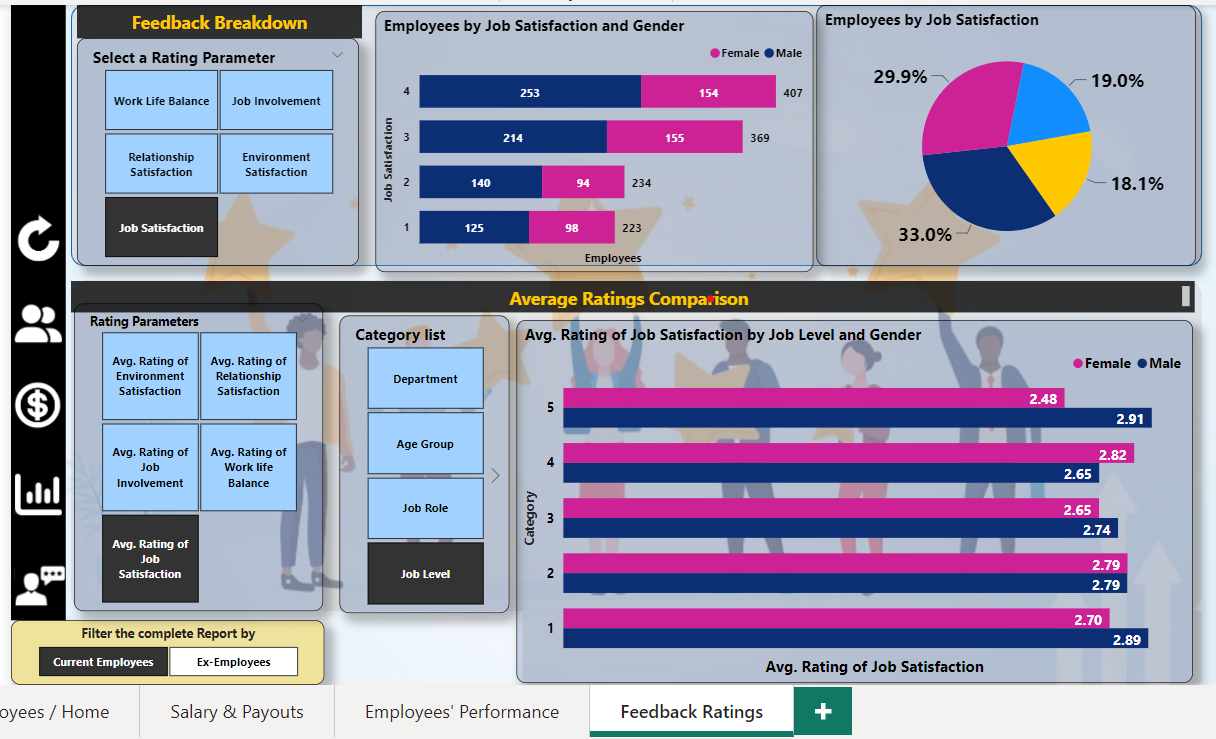

The dashboard page shown, as its layout file describes it:
{"tool":"powerbi","page":{"name":"Feedback Ratings","canvas":[1280,720],"ordinal":3},"visuals":[{"type":"shape","box":[0,0,58.2,652],"z":0,"group":"g4"},{"type":"shape","box":[62,3.2,1198.3,276.7],"z":0,"group":"g3"},{"type":"slicer","fields":{"Values":["Set of Rating Matrices.Set of Rating Matrices"]},"box":[68.8,38.1,298.8,241.6],"z":0,"group":"g2"},{"type":"actionButton","box":[0,215.2,58.2,64.7],"z":0,"group":"g1"},{"type":"slicer","title":"Filter the complete Report by","fields":{"Values":["Employees.attrition label"]},"box":[0,651.7,331.7,68.3],"z":0},{"type":"textbox","box":[68.6,3.2,301.7,35],"z":1000,"group":"g3"},{"type":"pieChart","fields":{"Category":["Ratings.Work Life Balance (Rating)"],"Y":["Measures Table.#1 Total Employees"]},"box":[862.2,15,400.5,271.8],"z":1000,"group":"g2"},{"type":"group","id":"g1","title":"Group 6","box":[0,215.2,69.6,432],"z":1000,"group":"g4"},{"type":"actionButton","box":[0,309,58.2,58.2],"z":1000,"group":"g1"},{"type":"shape","box":[542.3,642.6,720,76.7],"z":1000,"group":"g5"},{"type":"group","id":"g2","title":"Group 1","box":[68.8,9.2,1193.9,277.6],"z":2000,"group":"g3"},{"type":"barChart","fields":{"Category":["Ratings.Work Life Balance (Rating)"],"Y":["Measures Table.#1 Total Employees"],"Series":["Employees.Gender"]},"box":[385.4,9.2,464.1,276.6],"z":2000,"group":"g2"},{"type":"shape","box":[64,290.9,1198.3,351.7],"z":2000,"group":"g5"},{"type":"actionButton","box":[0,396.4,58.2,56.6],"z":2000,"group":"g1"},{"type":"actionButton","box":[0,482.2,58.2,74.4],"z":3000,"group":"g1"},{"type":"group","id":"g3","title":"Feedback Breakdown","box":[62,3.2,1200.8,283.6],"z":4000},{"type":"actionButton","box":[0,585.7,69.6,61.5],"z":4000,"group":"g1"},{"type":"slicer","fields":{"Values":["#Parameter- Avg Ratings.#Parameter- Avg Ratings"]},"box":[66.7,316.2,263.8,325.8],"z":5000,"group":"g5"},{"type":"group","id":"g4","title":"Navigation Bar #group","box":[0,0,69.6,652],"z":6000},{"type":"slicer","fields":{"Values":["#Parameter- Category list.#Parameter- Category list"]},"box":[347.2,334,181.2,376.7],"z":7000,"group":"g5"},{"type":"clusteredBarChart","fields":{"Category":["Employees.Department"],"Y":["Measures Table.**Rating avg- Environment Satisfaction"],"Series":["Employees.Gender"]},"box":[542,329,720,389.4],"z":8000,"group":"g5"},{"type":"textbox","box":[63.6,292.3,1190.5,33],"z":9000,"group":"g5"},{"type":"group","id":"g5","title":"Group 2","box":[63.6,290.9,1198.7,428.3],"z":9001}]}

Visuals, with their boxes on the page's 1280x720 design canvas (x1, y1, x2, y2). These are canvas units, not pixel positions in the 1216x739 screenshot, which may show the page scaled, cropped or inside an application window:
shape: [0, 0, 58, 652]
shape: [62, 3, 1260, 280]
slicer - Set of Rating Matrices.Set of Rating Matrices: [69, 38, 368, 280]
actionButton: [0, 215, 58, 280]
"Filter the complete Report by" slicer: [0, 652, 332, 720]
textbox: [69, 3, 370, 38]
pieChart - Ratings.Work Life Balance (Rating) x Measures Table.#1 Total Employees: [862, 15, 1263, 287]
"Group 6" group: [0, 215, 70, 647]
actionButton: [0, 309, 58, 367]
shape: [542, 643, 1262, 719]
"Group 1" group: [69, 9, 1263, 287]
barChart - Ratings.Work Life Balance (Rating) x Measures Table.#1 Total Employees: [385, 9, 850, 286]
shape: [64, 291, 1262, 643]
actionButton: [0, 396, 58, 453]
actionButton: [0, 482, 58, 557]
"Feedback Breakdown" group: [62, 3, 1263, 287]
actionButton: [0, 586, 70, 647]
slicer - #Parameter- Avg Ratings.#Parameter- Avg Ratings: [67, 316, 330, 642]
"Navigation Bar #group" group: [0, 0, 70, 652]
slicer - #Parameter- Category list.#Parameter- Category list: [347, 334, 528, 711]
clusteredBarChart - Employees.Department x Measures Table.**Rating avg- Environment Satisfaction: [542, 329, 1262, 718]
textbox: [64, 292, 1254, 325]
"Group 2" group: [64, 291, 1262, 719]
